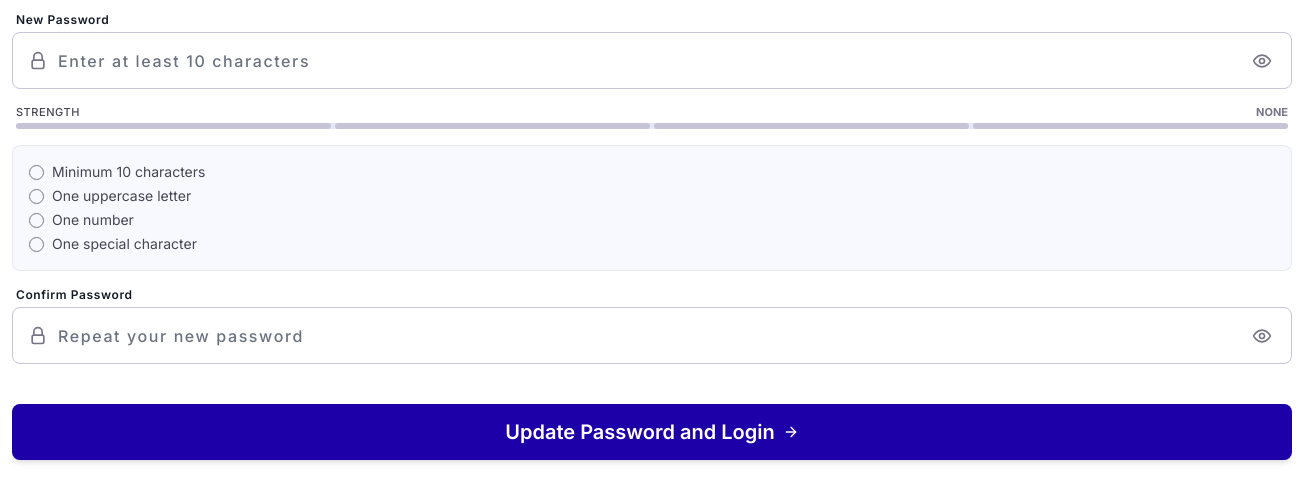
Test: ResetPasswordForm › blocks mismatched password submissions
The image size is (1304, 501).
Type "StrongPass1!" into the password field labelled "New Password" at x=652, y=60, box [12, 32, 1292, 89]
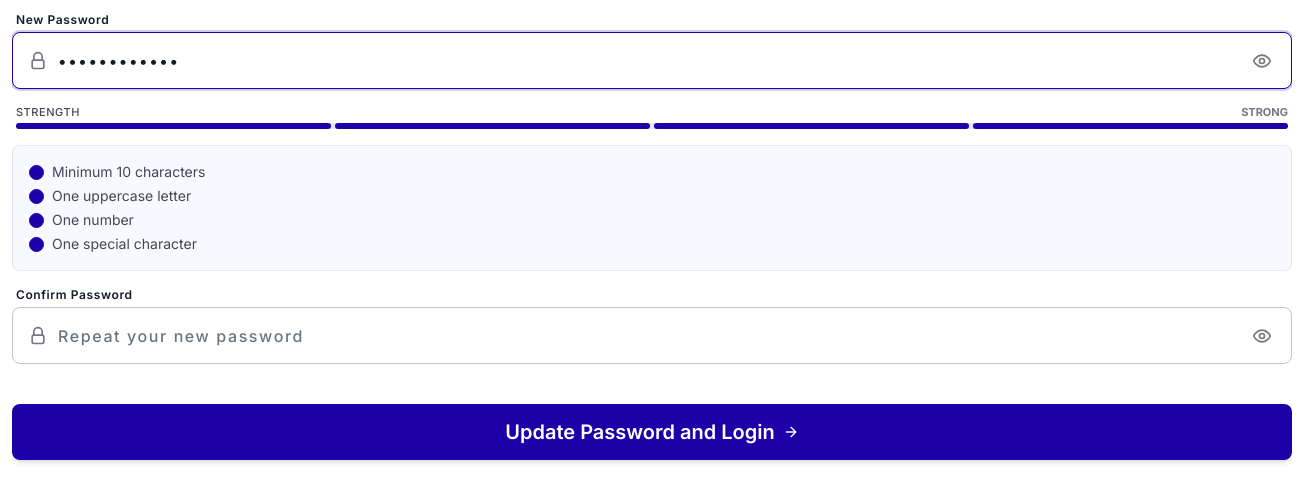
Type "Different1!" into the password field labelled "Confirm Password" at x=652, y=336, box [12, 307, 1292, 364]
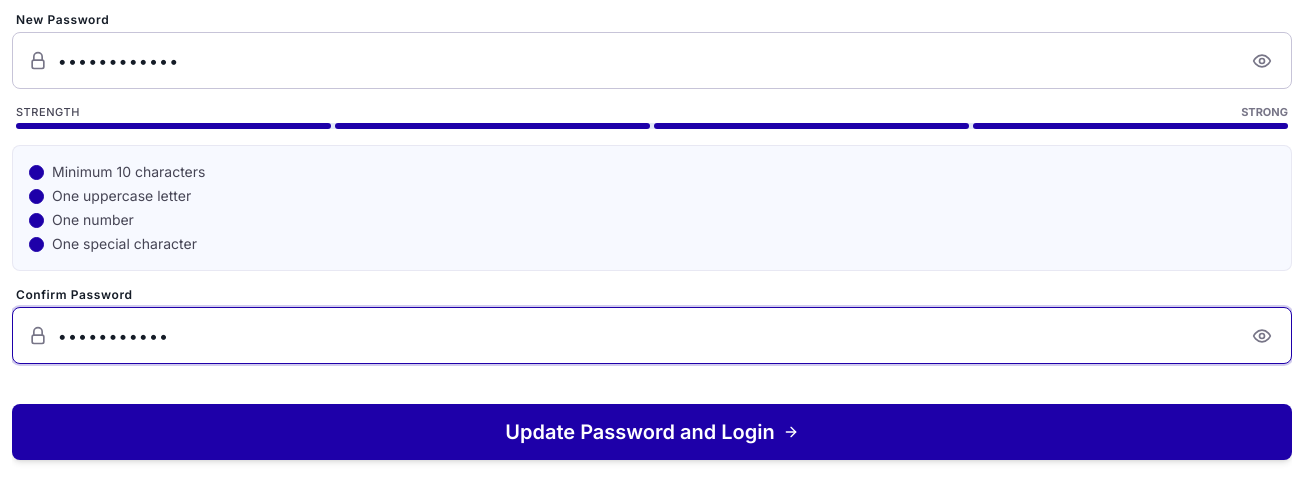
Click the button "Update Password and Login" at x=652, y=432, box [12, 404, 1292, 460]
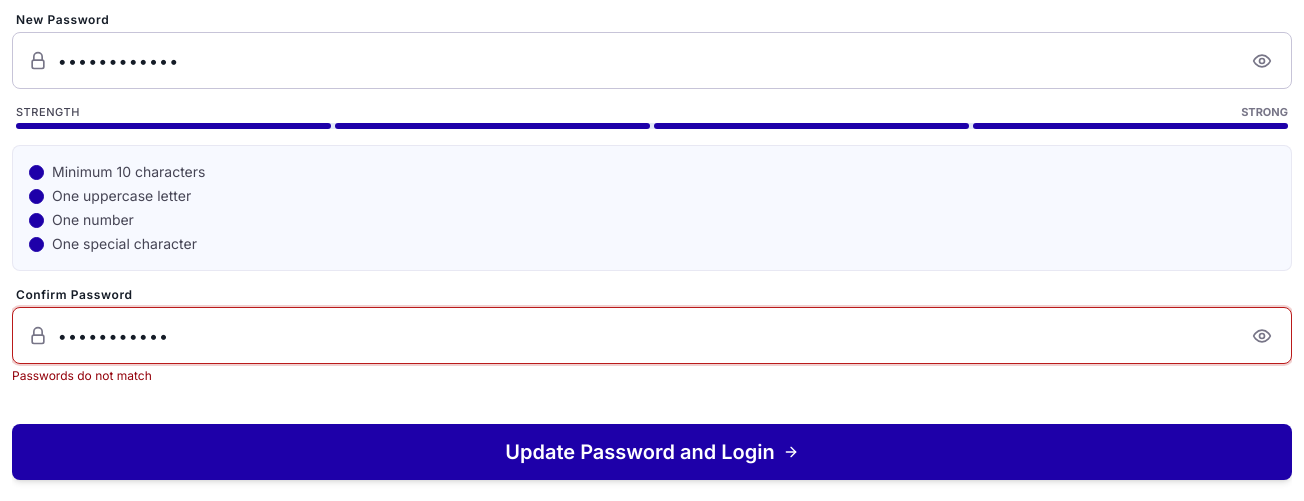
Check: the text "Passwords do not match" is shown, box [12, 368, 152, 383]
